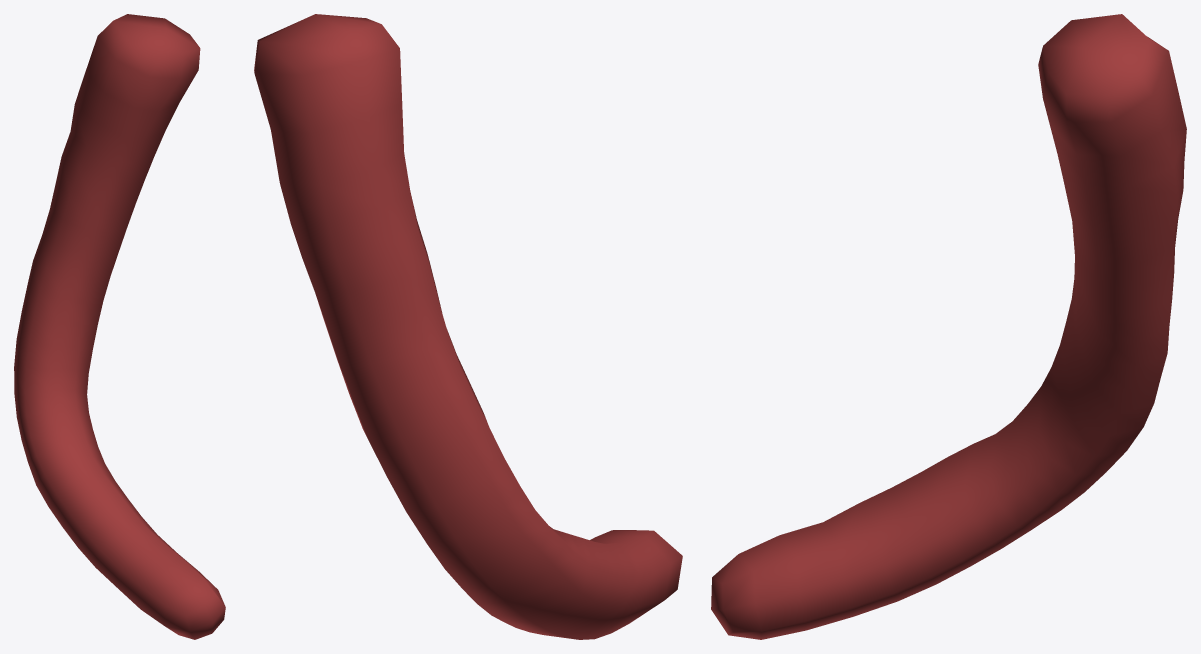
File: tendon-sheath-of-flexor-hallucis-longus-l.glb
3 renders of one model, left to right at view 1: azimuth 30°, elevation 25°; view 2: azimuth 150°, elevation 25°; view 3: azimuth 270°, elevation 25°, orthographic. The views are drawn at different scales.
Visible parts, largest first — view 1: Tendon sheath of flexor hallucis longus.l; view 2: Tendon sheath of flexor hallucis longus.l; view 3: Tendon sheath of flexor hallucis longus.l.
Part boxes in pixels (x1,y1,x2,y2): Tendon sheath of flexor hallucis longus.l: (14, 14, 225, 639); Tendon sheath of flexor hallucis longus.l: (254, 14, 682, 639); Tendon sheath of flexor hallucis longus.l: (711, 14, 1186, 639).
Bounding box in the file's own units: 0.0209 × 0.0513 × 0.0336.
